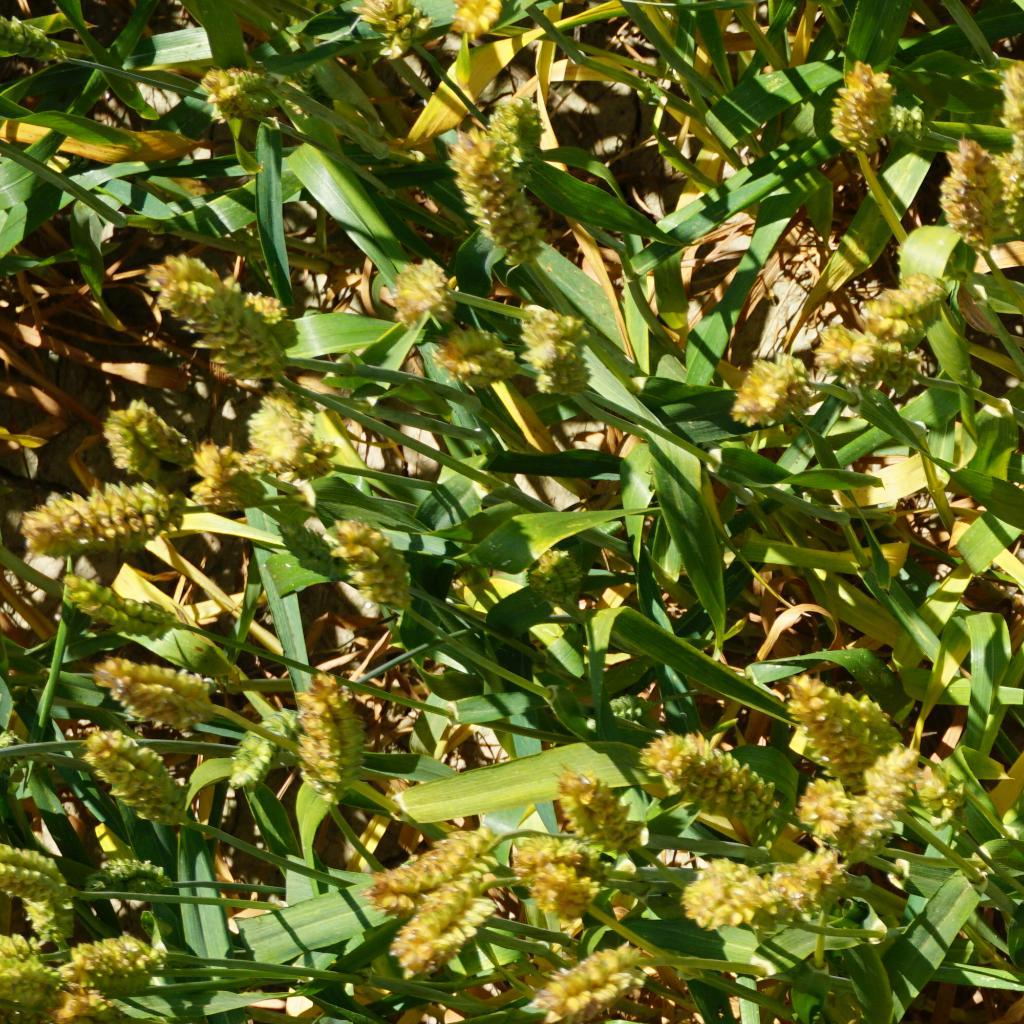0-0: (140, 248, 261, 368), (439, 128, 535, 269), (83, 724, 199, 833), (516, 939, 662, 1024), (655, 728, 781, 818), (82, 658, 224, 735), (292, 669, 365, 818), (20, 487, 187, 549), (392, 879, 512, 965), (772, 670, 879, 762), (54, 568, 181, 636), (934, 129, 1007, 243), (244, 389, 336, 478), (679, 850, 788, 922), (555, 766, 642, 855), (228, 702, 308, 793), (332, 517, 409, 610), (96, 397, 183, 479), (364, 822, 482, 882), (373, 252, 459, 332), (507, 834, 589, 916), (68, 930, 172, 994), (224, 291, 300, 373), (485, 97, 567, 171), (856, 752, 920, 840), (429, 326, 521, 387), (0, 843, 80, 911), (354, 0, 436, 66), (829, 56, 885, 151), (76, 854, 179, 905), (187, 444, 266, 509), (510, 541, 583, 611), (723, 354, 802, 418), (858, 268, 936, 329), (209, 59, 285, 120), (0, 940, 68, 1008), (779, 845, 862, 899), (275, 519, 340, 579), (527, 343, 593, 401), (11, 878, 83, 931), (997, 71, 1024, 211), (816, 335, 909, 375), (793, 769, 849, 834), (913, 759, 967, 822), (0, 25, 69, 73), (514, 303, 577, 346), (445, 0, 508, 39), (55, 988, 123, 1024), (862, 103, 920, 144)
